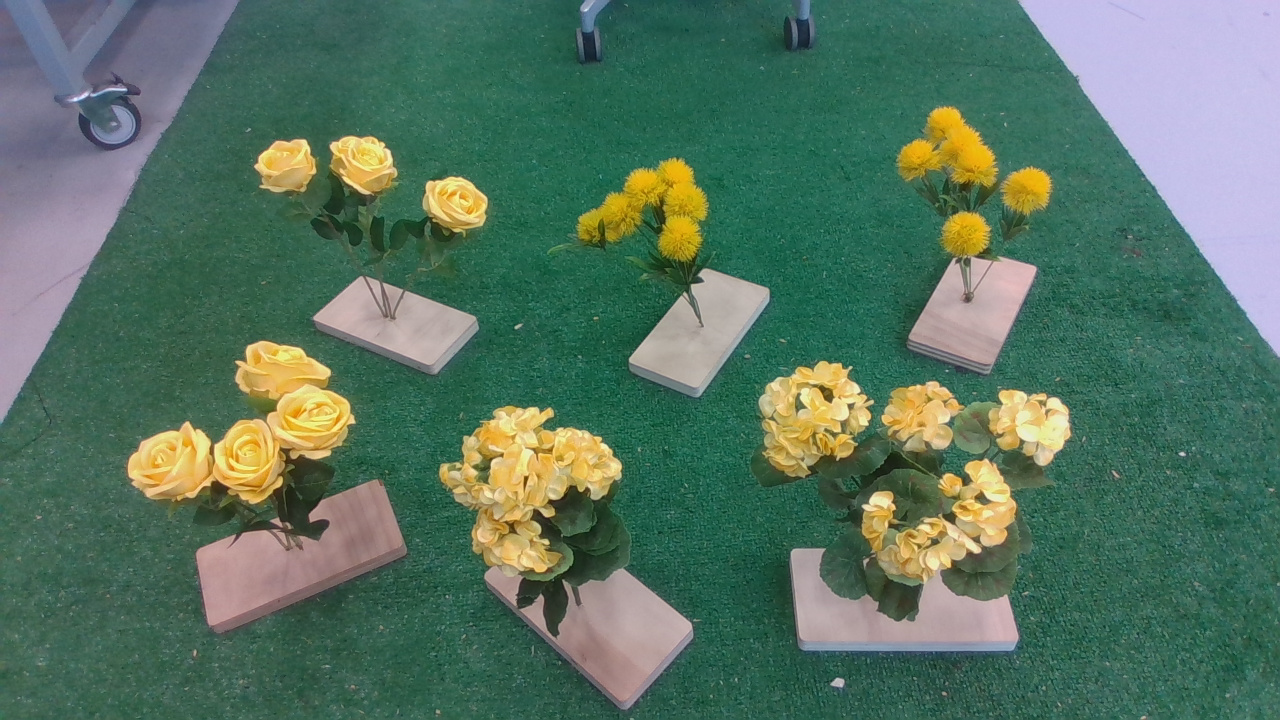dandelion: (884, 101, 1062, 273), (569, 158, 724, 299)
geranium: (732, 366, 1081, 625), (117, 340, 365, 553), (434, 406, 643, 645)
rose: (241, 133, 500, 276)
